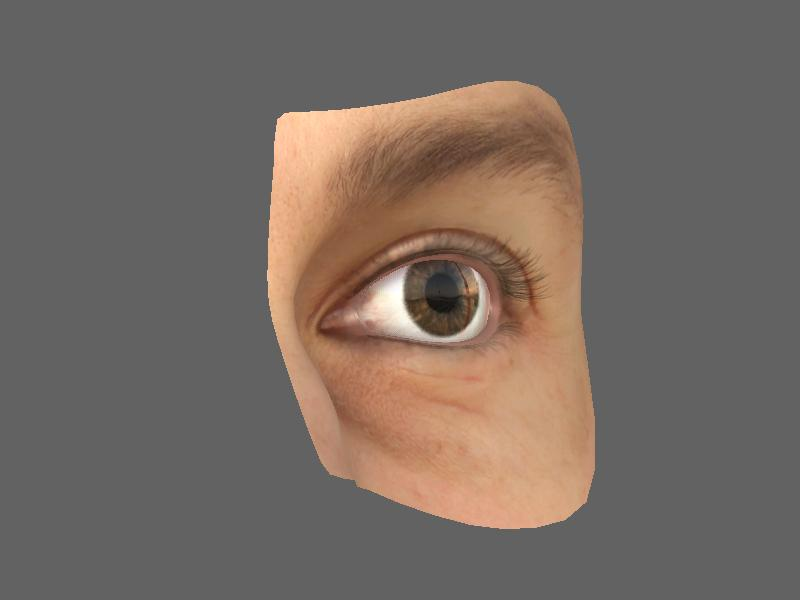iris: (398, 251, 493, 336)
